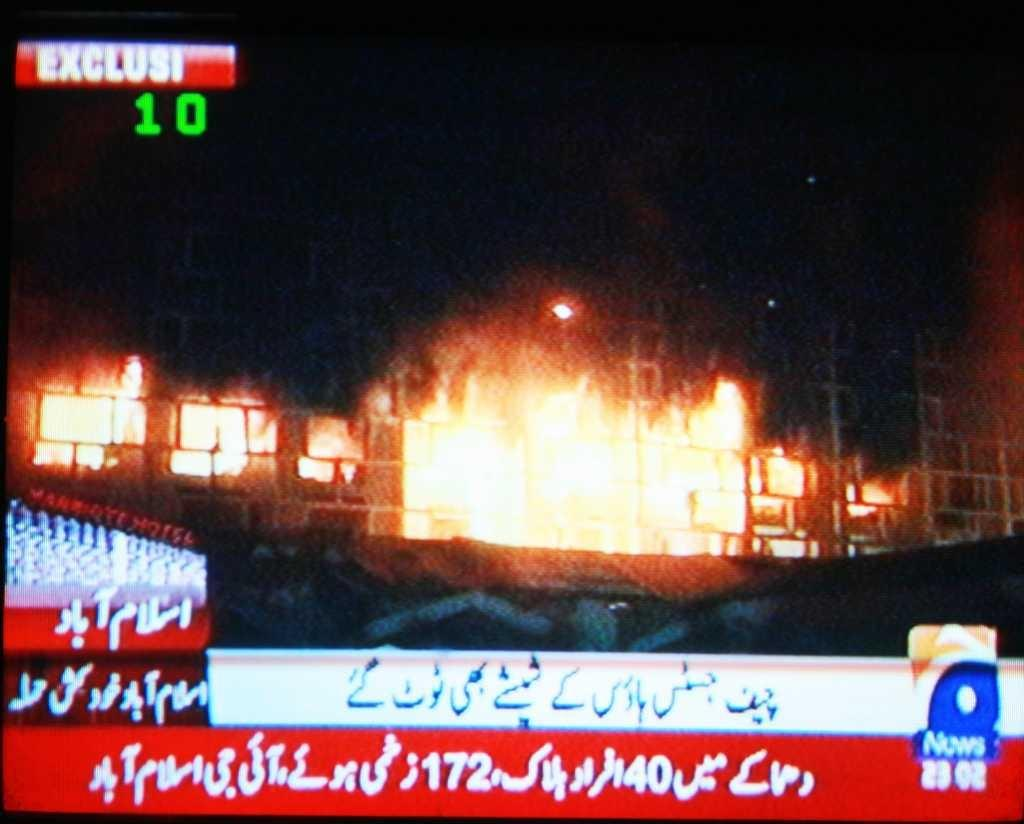fire: (414, 424, 722, 532), (48, 396, 146, 454), (188, 410, 262, 458)
